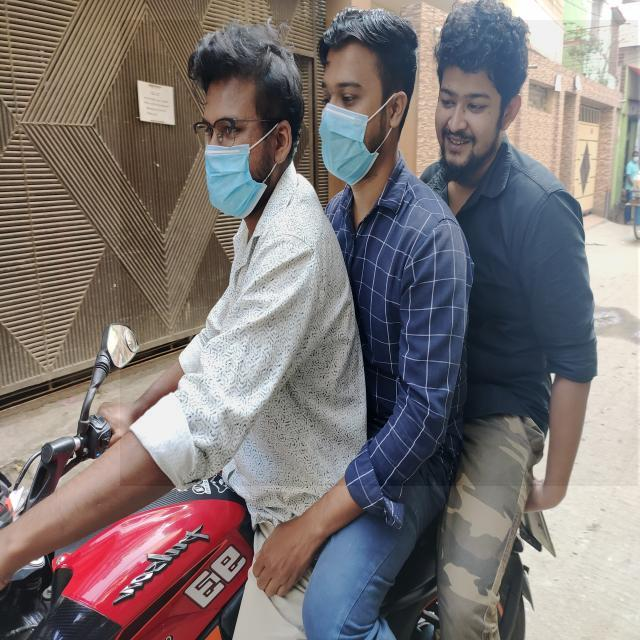Overloading: (120, 21, 638, 487)
